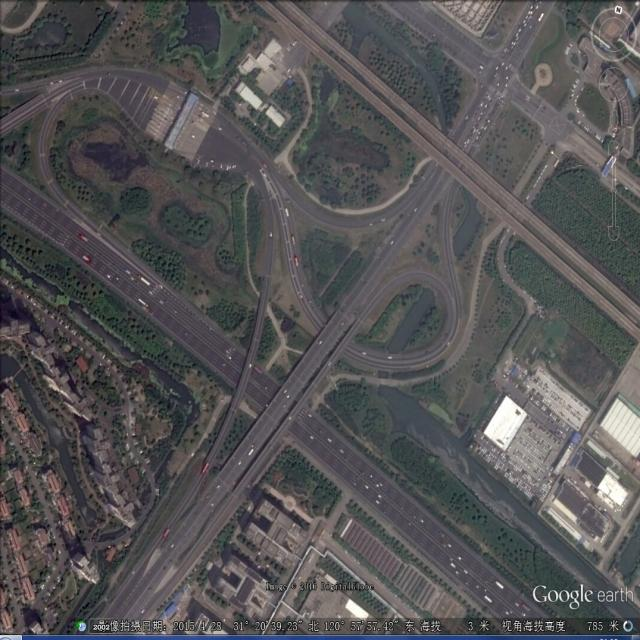overpass: (244, 158, 469, 501)
